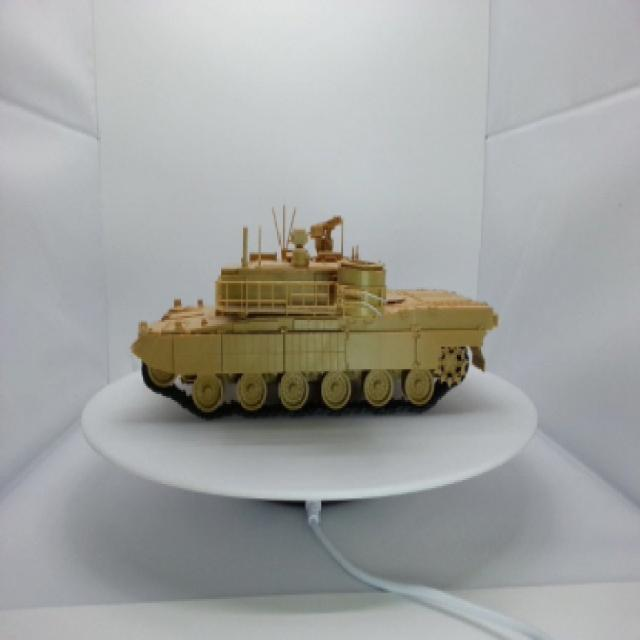korea tank: (114, 172, 523, 460)
